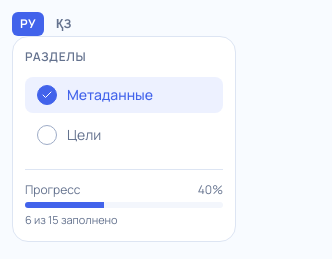
Scenario: switches every client label instantly, without reloading the document
Click the button with aria-label "Қазақ тіліне ауысу". click: (64,24)
box: [48,12,80,36]
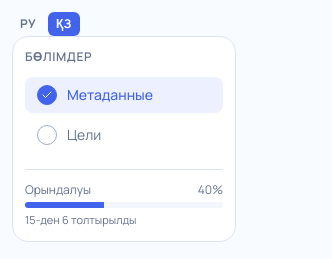
Now the text "Бөлімдер" is shown, box [25,49,92,65]
Now the text "Орындалуы" is shown, box [25,182,91,198]
Now the text "15-ден 6 толтырылды" is shown, box [25,212,136,227]
